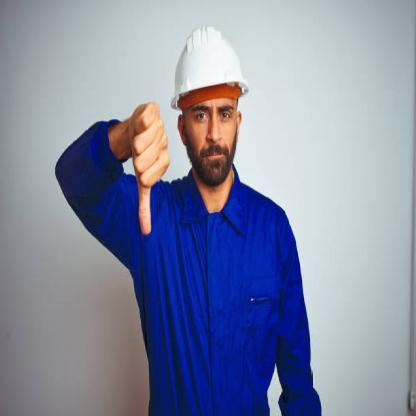thumb_down: (126, 96, 171, 236)
